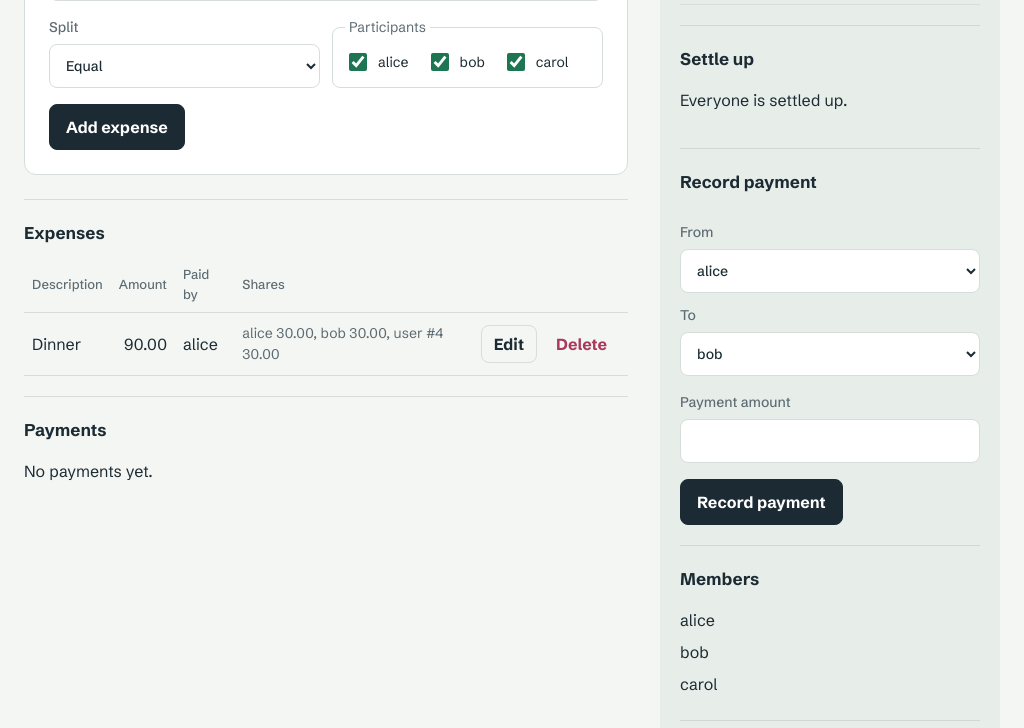
Expenses › delete removes and refreshes
The width and height of the screenshot is (1024, 728).
(page scrolled)
Click the button "Delete". click: {"x": 582, "y": 344}
box: [543, 325, 620, 363]
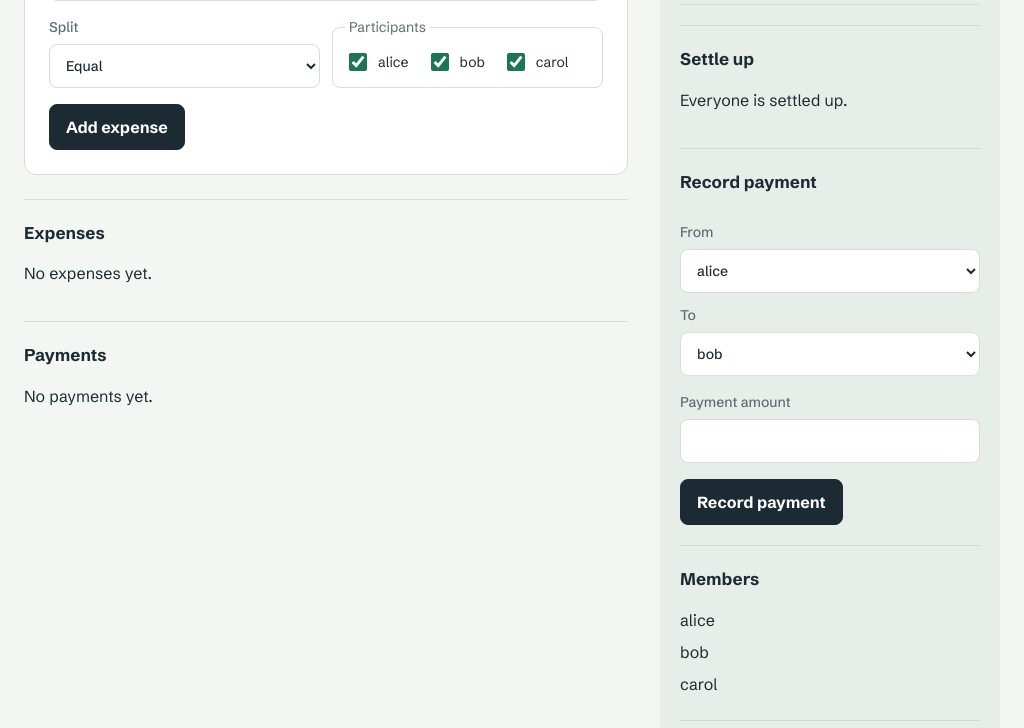
Check: the text "No expenses yet." is shown, box [24, 263, 152, 283]
